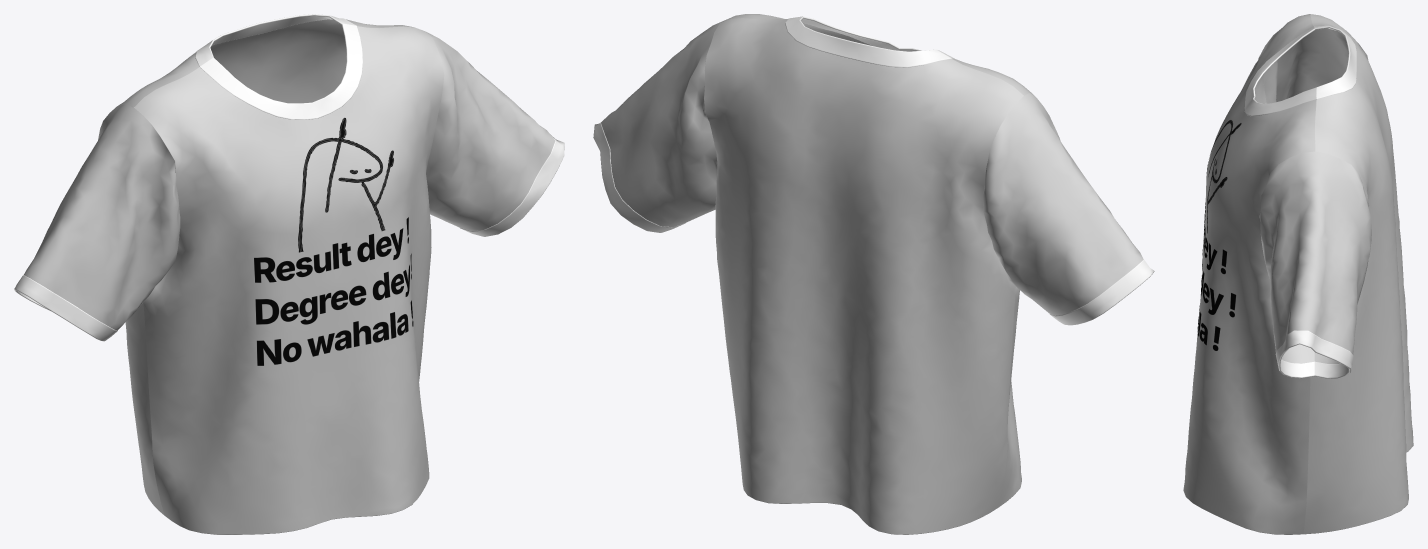
The model's file is result.glb.
The picture shows the model from 3 angles, left to right: view 1: azimuth 30°, elevation 25°; view 2: azimuth 150°, elevation 25°; view 3: azimuth 270°, elevation 25°; orthographic projection. The views are drawn at different scales.
Parts seen in each view (by area): view 1: result dey; view 2: result dey; view 3: result dey.
Boxes of the visible parts, x1,y1,x2,y2 form: result dey: [14, 14, 564, 534]; result dey: [593, 14, 1154, 534]; result dey: [1183, 14, 1413, 534].
Bounding box in the file's own units: 1.26 × 0.9838 × 0.4819.
3 materials, 1 textured.
